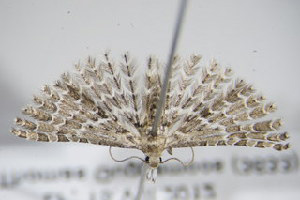Alucitidae: (7, 43, 291, 180)
moth: (9, 45, 293, 182)
